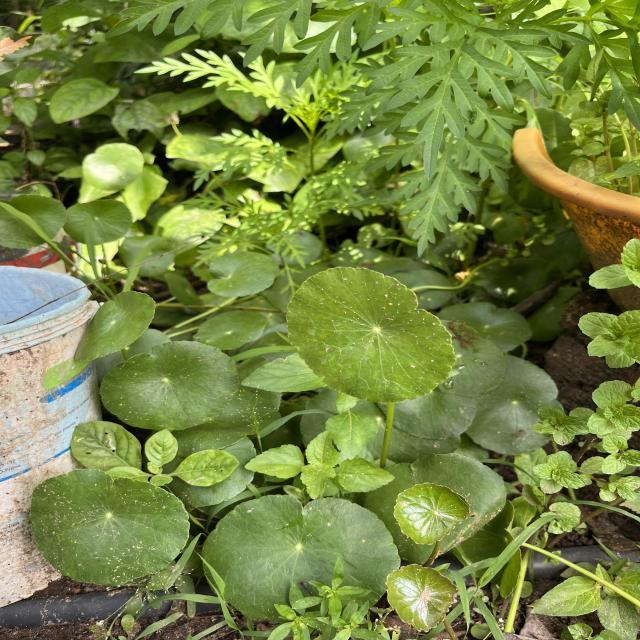Bacopa monnieri: (199, 492, 402, 626), (285, 265, 458, 404), (29, 467, 191, 588), (98, 339, 242, 433), (73, 290, 157, 362), (384, 562, 460, 634), (393, 481, 472, 546)
